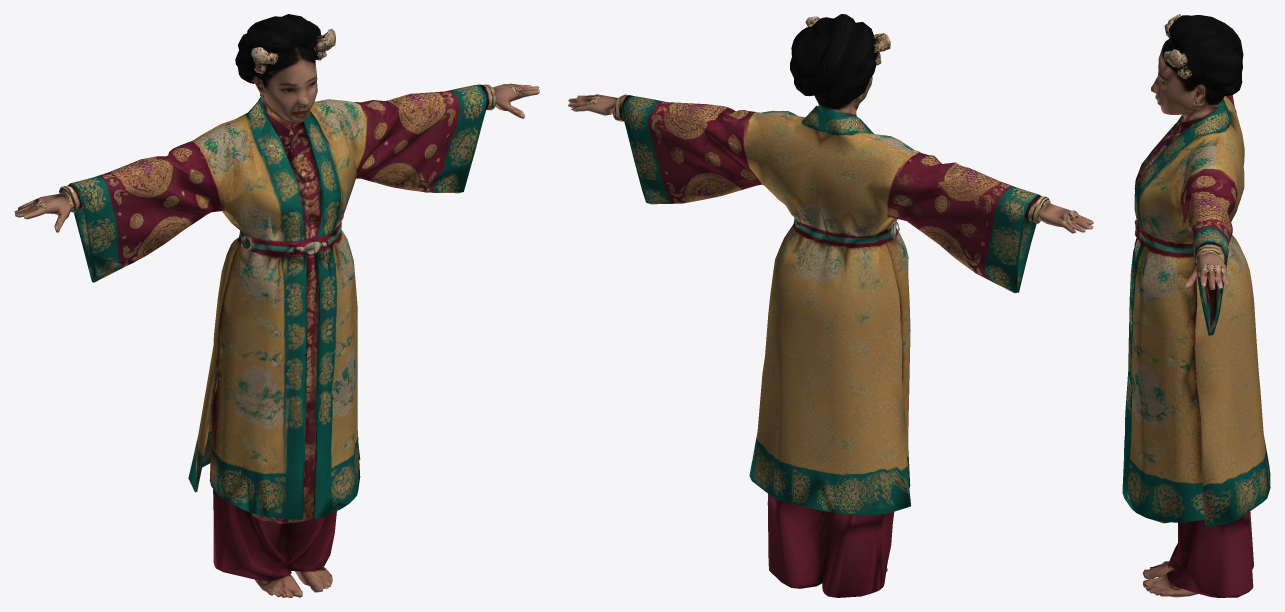
File: di-ghe.glb
3 views of the same model, side by side, from view 1: azimuth 30°, elevation 25°; view 2: azimuth 150°, elevation 25°; view 3: azimuth 270°, elevation 25° (orthographic).
Visible parts, largest first — view 1: tripo_node_733d2180-d4d1-4825-a85b-060c151d2e07; view 2: tripo_node_733d2180-d4d1-4825-a85b-060c151d2e07; view 3: tripo_node_733d2180-d4d1-4825-a85b-060c151d2e07.
Part boxes in pixels (x1,y1,x2,y2): tripo_node_733d2180-d4d1-4825-a85b-060c151d2e07: [14, 14, 539, 597]; tripo_node_733d2180-d4d1-4825-a85b-060c151d2e07: [568, 14, 1093, 597]; tripo_node_733d2180-d4d1-4825-a85b-060c151d2e07: [1122, 14, 1270, 597].
Bounding box in the file's own units: 0.9568 × 0.9789 × 0.232.
1 material, 1 textured.
